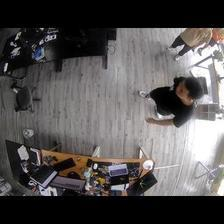normal: (138, 77, 200, 129)
